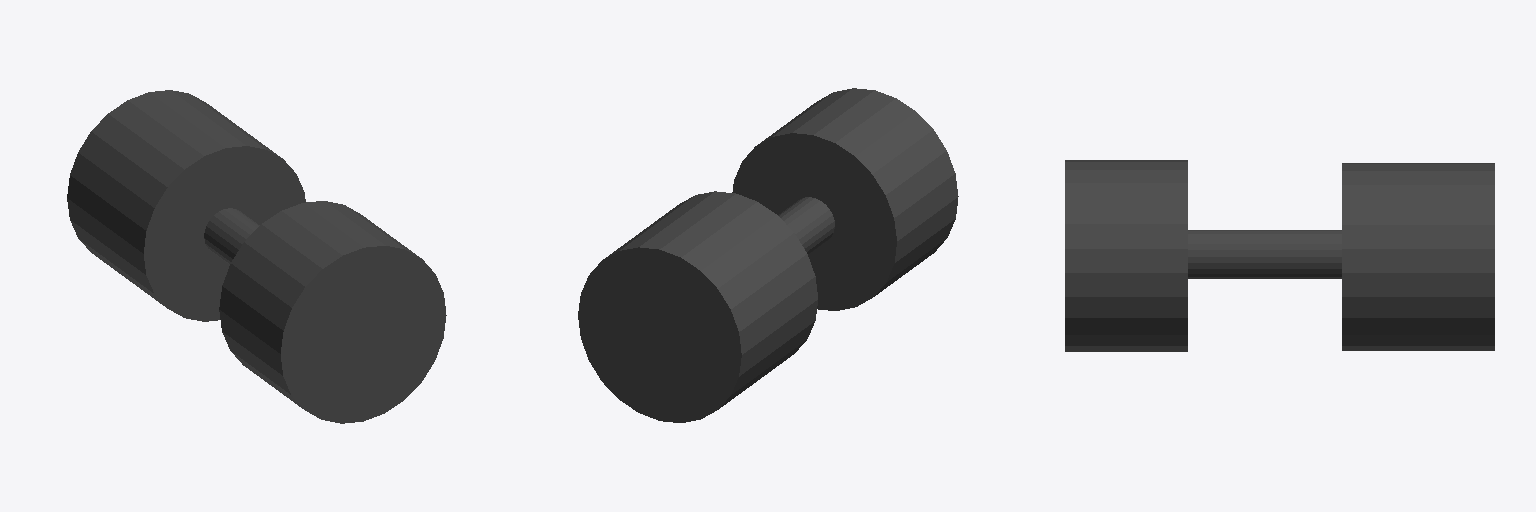
File: weight.obj
The picture shows the model from 3 angles: view 1: azimuth 30°, elevation 25°; view 2: azimuth 150°, elevation 25°; view 3: azimuth 270°, elevation 25°; orthographic projection.
Parts seen in each view (by area): view 1: Mesh1 Model; view 2: Mesh1 Model; view 3: Mesh1 Model.
Boxes of the visible parts, <box> form: Mesh1 Model: <box>67,90,446,423</box>; Mesh1 Model: <box>578,88,958,422</box>; Mesh1 Model: <box>1065,160,1494,351</box>.
Bounding box in the file's own units: 1627 × 1627 × 3653.